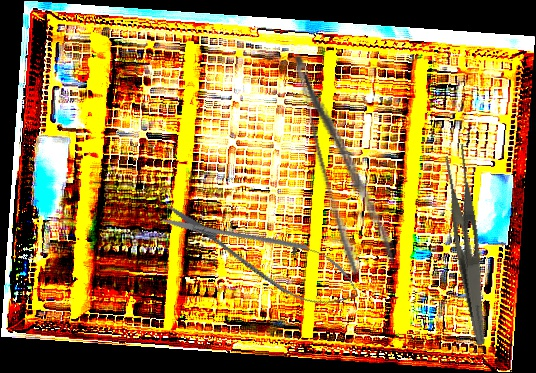Dressing Forceps: (288, 41, 399, 277), (434, 143, 508, 346)
Micro Scissor: (154, 188, 369, 321)
